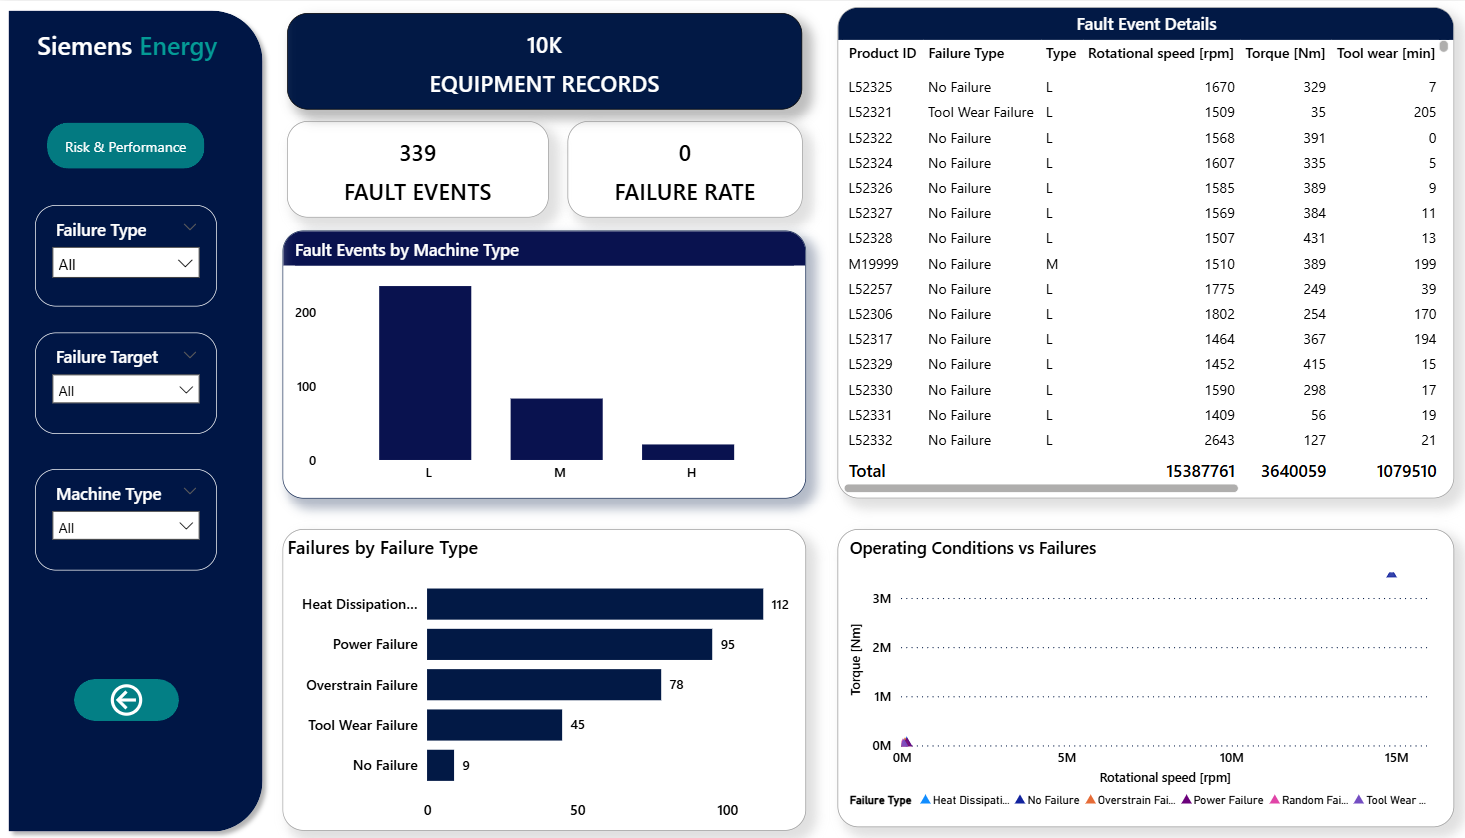

Layout of this report page (visuals, bound fields, positions):
{"tool":"powerbi","page":{"name":"Equipment Health","canvas":[1400,800],"ordinal":3},"visuals":[{"type":"card","title":"Turbine ID","fields":{"Values":["_Measure.Equipment Records"]},"box":[274.7,10.8,490.5,92.1],"z":0},{"type":"card","title":"Turbine ID","fields":{"Values":["_Measure.Equipment Failure Rate %"]},"box":[541.3,114,223.8,92.1],"z":1000},{"type":"card","title":"Turbine ID","fields":{"Values":["_Measure.Equipment Fault Events"]},"box":[274.7,114,249.2,92.1],"z":2000},{"type":"clusteredBarChart","title":"Failures by Failure Type","fields":{"Category":["Equipment_Data.Failure Type"],"Y":["_Measure.Equipment Failed Events by Type"]},"box":[270.3,502.9,498.4,287.3],"z":3000},{"type":"scatterChart","title":"Operating Conditions vs Failures","fields":{"X":["Sum(Equipment_Data.Rotational speed [rpm])"],"Y":["Sum(Equipment_Data.Torque [Nm])"],"Series":["Equipment_Data.Failure Type"]},"box":[798.4,503.2,587.3,284.1],"z":4000},{"type":"tableEx","title":"Fault Event Details","fields":{"Values":["Equipment_Data.Product ID","Equipment_Data.Failure Type","Equipment_Data.Type","Sum(Equipment_Data.Rotational speed [rpm])","Sum(Equipment_Data.Torque [Nm])","Sum(Equipment_Data.Tool wear [min])","Sum(Equipment_Data.Air temperature [K])","Sum(Equipment_Data.Process temperature [K])"]},"box":[798.4,6.3,587.3,468.3],"z":5000},{"type":"clusteredColumnChart","title":"Fault Events by Machine Type","fields":{"Category":["Equipment_Data.Type"],"Y":["_Measure.Health Failed Count"]},"box":[270.3,218.7,498.4,255.6],"z":6000},{"type":"shape","box":[0,0,260,800],"z":7000},{"type":"slicer","fields":{"Values":["Equipment_Data.Failure Type"]},"box":[34.9,193.7,173,96.8],"z":8000},{"type":"slicer","fields":{"Values":["Equipment_Data.Target"]},"box":[34.9,315.9,173,96.8],"z":9000},{"type":"slicer","fields":{"Values":["Equipment_Data.Type"]},"box":[34.9,446,173,96.8],"z":10000},{"type":"actionButton","box":[71.4,645.7,100,40],"z":11000},{"type":"textbox","box":[31.2,19.8,190.6,60.4],"z":12000},{"type":"pageNavigator","box":[45.7,115.7,150,44.3],"z":13000}]}

Visuals, with their boxes in screenshot pixels (x1, y1, x2, y2), scaled from the page's 1400x800 canvas onto the 1465x838 screenshot:
"Turbine ID" card: 287:11:801:108
"Turbine ID" card: 566:119:801:216
"Turbine ID" card: 287:119:548:216
"Failures by Failure Type" clusteredBarChart: 283:527:804:828
"Operating Conditions vs Failures" scatterChart: 835:527:1450:825
"Fault Event Details" tableEx: 835:7:1450:497
"Fault Events by Machine Type" clusteredColumnChart: 283:229:804:497
shape: 0:0:272:837
slicer - Equipment_Data.Failure Type: 37:203:218:304
slicer - Equipment_Data.Target: 37:331:218:432
slicer - Equipment_Data.Type: 37:467:218:569
actionButton: 75:676:179:718
textbox: 33:21:232:84
pageNavigator: 48:121:205:168
